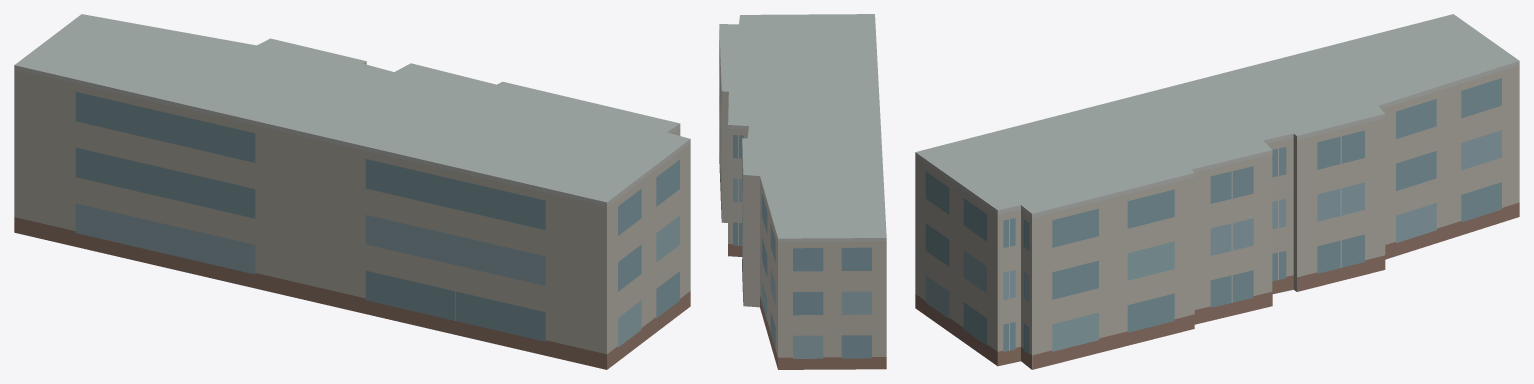
File: survey-upis-32746392.glb
The picture shows the model from 3 angles, left to right: view 1: azimuth 30°, elevation 25°; view 2: azimuth 150°, elevation 25°; view 3: azimuth 270°, elevation 25°; orthographic projection. The views are drawn at different scales.
Visible parts, largest first — view 1: survey-upis-32746392.tmp; view 2: survey-upis-32746392.tmp; view 3: survey-upis-32746392.tmp.
Boxes of the visible parts, box(x1,y1,x2,y2) form: survey-upis-32746392.tmp: box(14, 14, 690, 369); survey-upis-32746392.tmp: box(719, 14, 886, 369); survey-upis-32746392.tmp: box(915, 14, 1519, 369).
Bounding box in the file's own units: 25.15 × 9.15 × 32.14.
